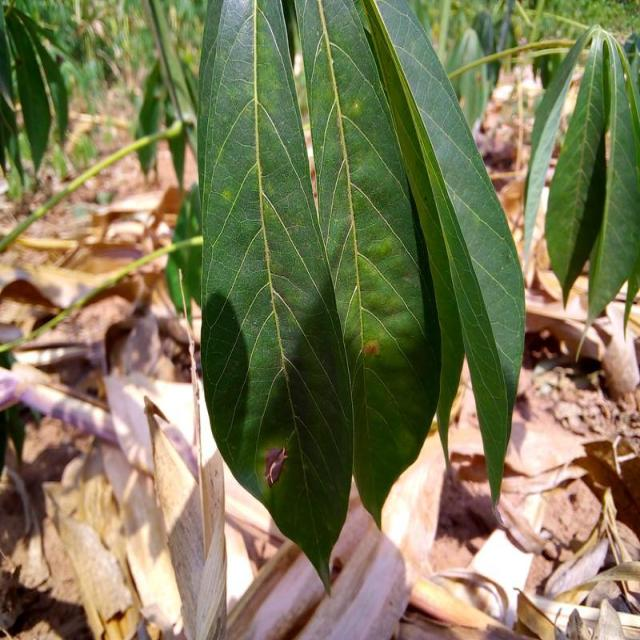cassava leaf: (194, 0, 526, 594), (194, 0, 355, 597), (359, 0, 526, 524)
